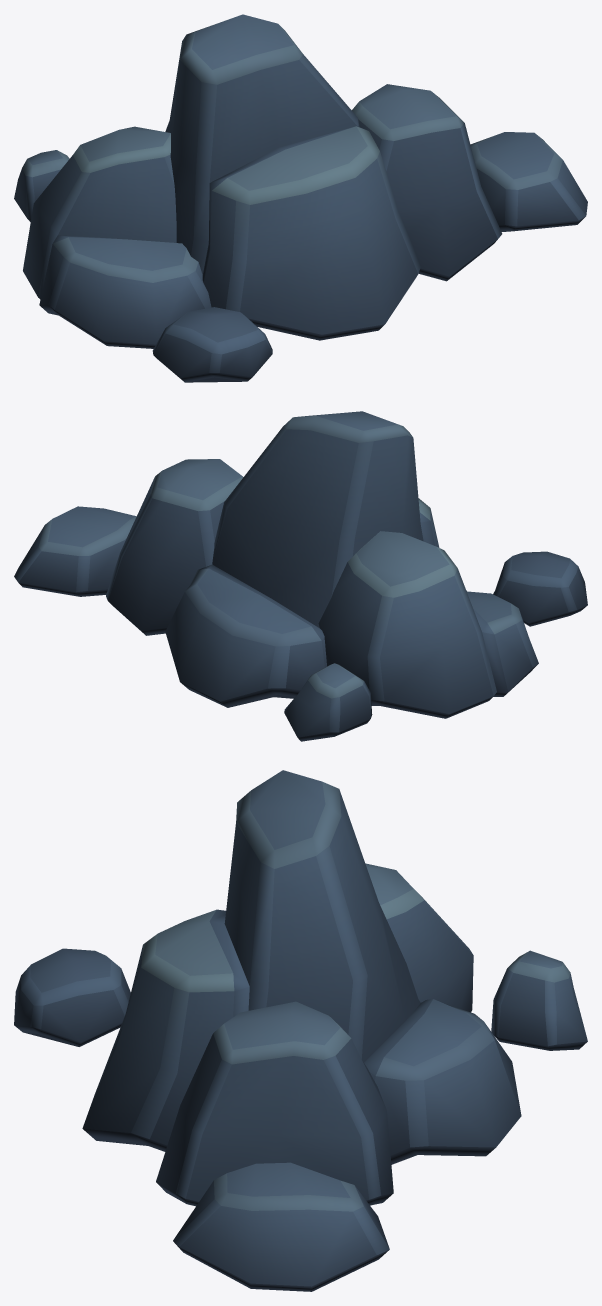
Rendered from smallrocks.glb.
3 renders of one model, top to bottom at view 1: azimuth 30°, elevation 25°; view 2: azimuth 150°, elevation 25°; view 3: azimuth 270°, elevation 25°, orthographic. The views are drawn at different scales.
Parts seen in each view (by area): view 1: rock_arrangement_small; view 2: rock_arrangement_small; view 3: rock_arrangement_small.
Part boxes in pixels (x1=…): rock_arrangement_small: x1=14, y1=14, x2=587, y2=382; rock_arrangement_small: x1=14, y1=411, x2=587, y2=741; rock_arrangement_small: x1=14, y1=770, x2=587, y2=1291.
Size of what is drawn, in the model's own units: 3.35 by 1.66 by 2.59.
Materials: 1 (1 with a texture image).
